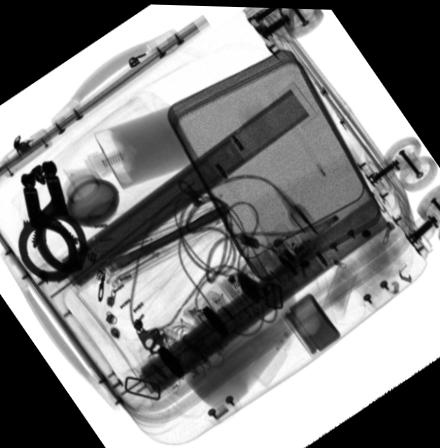HandCuffs: (15, 157, 87, 283)
